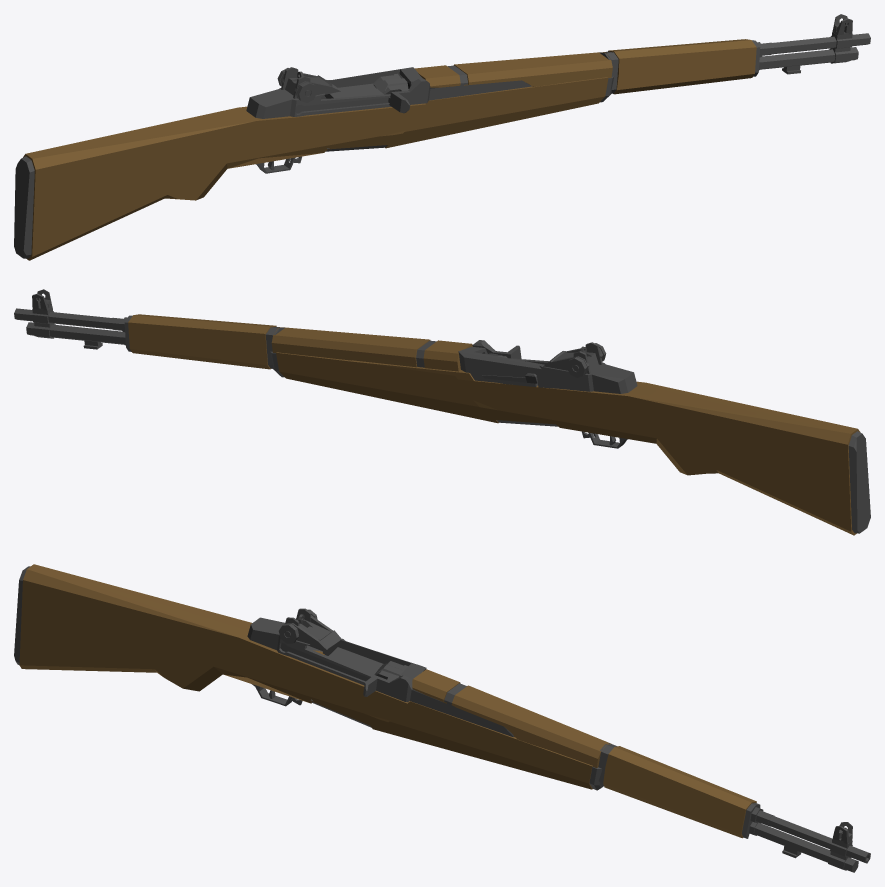
3 views of the same model, one above another, from view 1: azimuth 30°, elevation 25°; view 2: azimuth 150°, elevation 25°; view 3: azimuth 330°, elevation 25° (orthographic).
Visible parts, largest first — view 1: Cube.001; view 2: Cube.001; view 3: Cube.001.
Boxes of the visible parts, <box> form: Cube.001: <box>14,14,870,260</box>; Cube.001: <box>14,289,870,535</box>; Cube.001: <box>14,564,870,872</box>.
Bounding box in the file's own units: 983 × 137 × 66.26.
